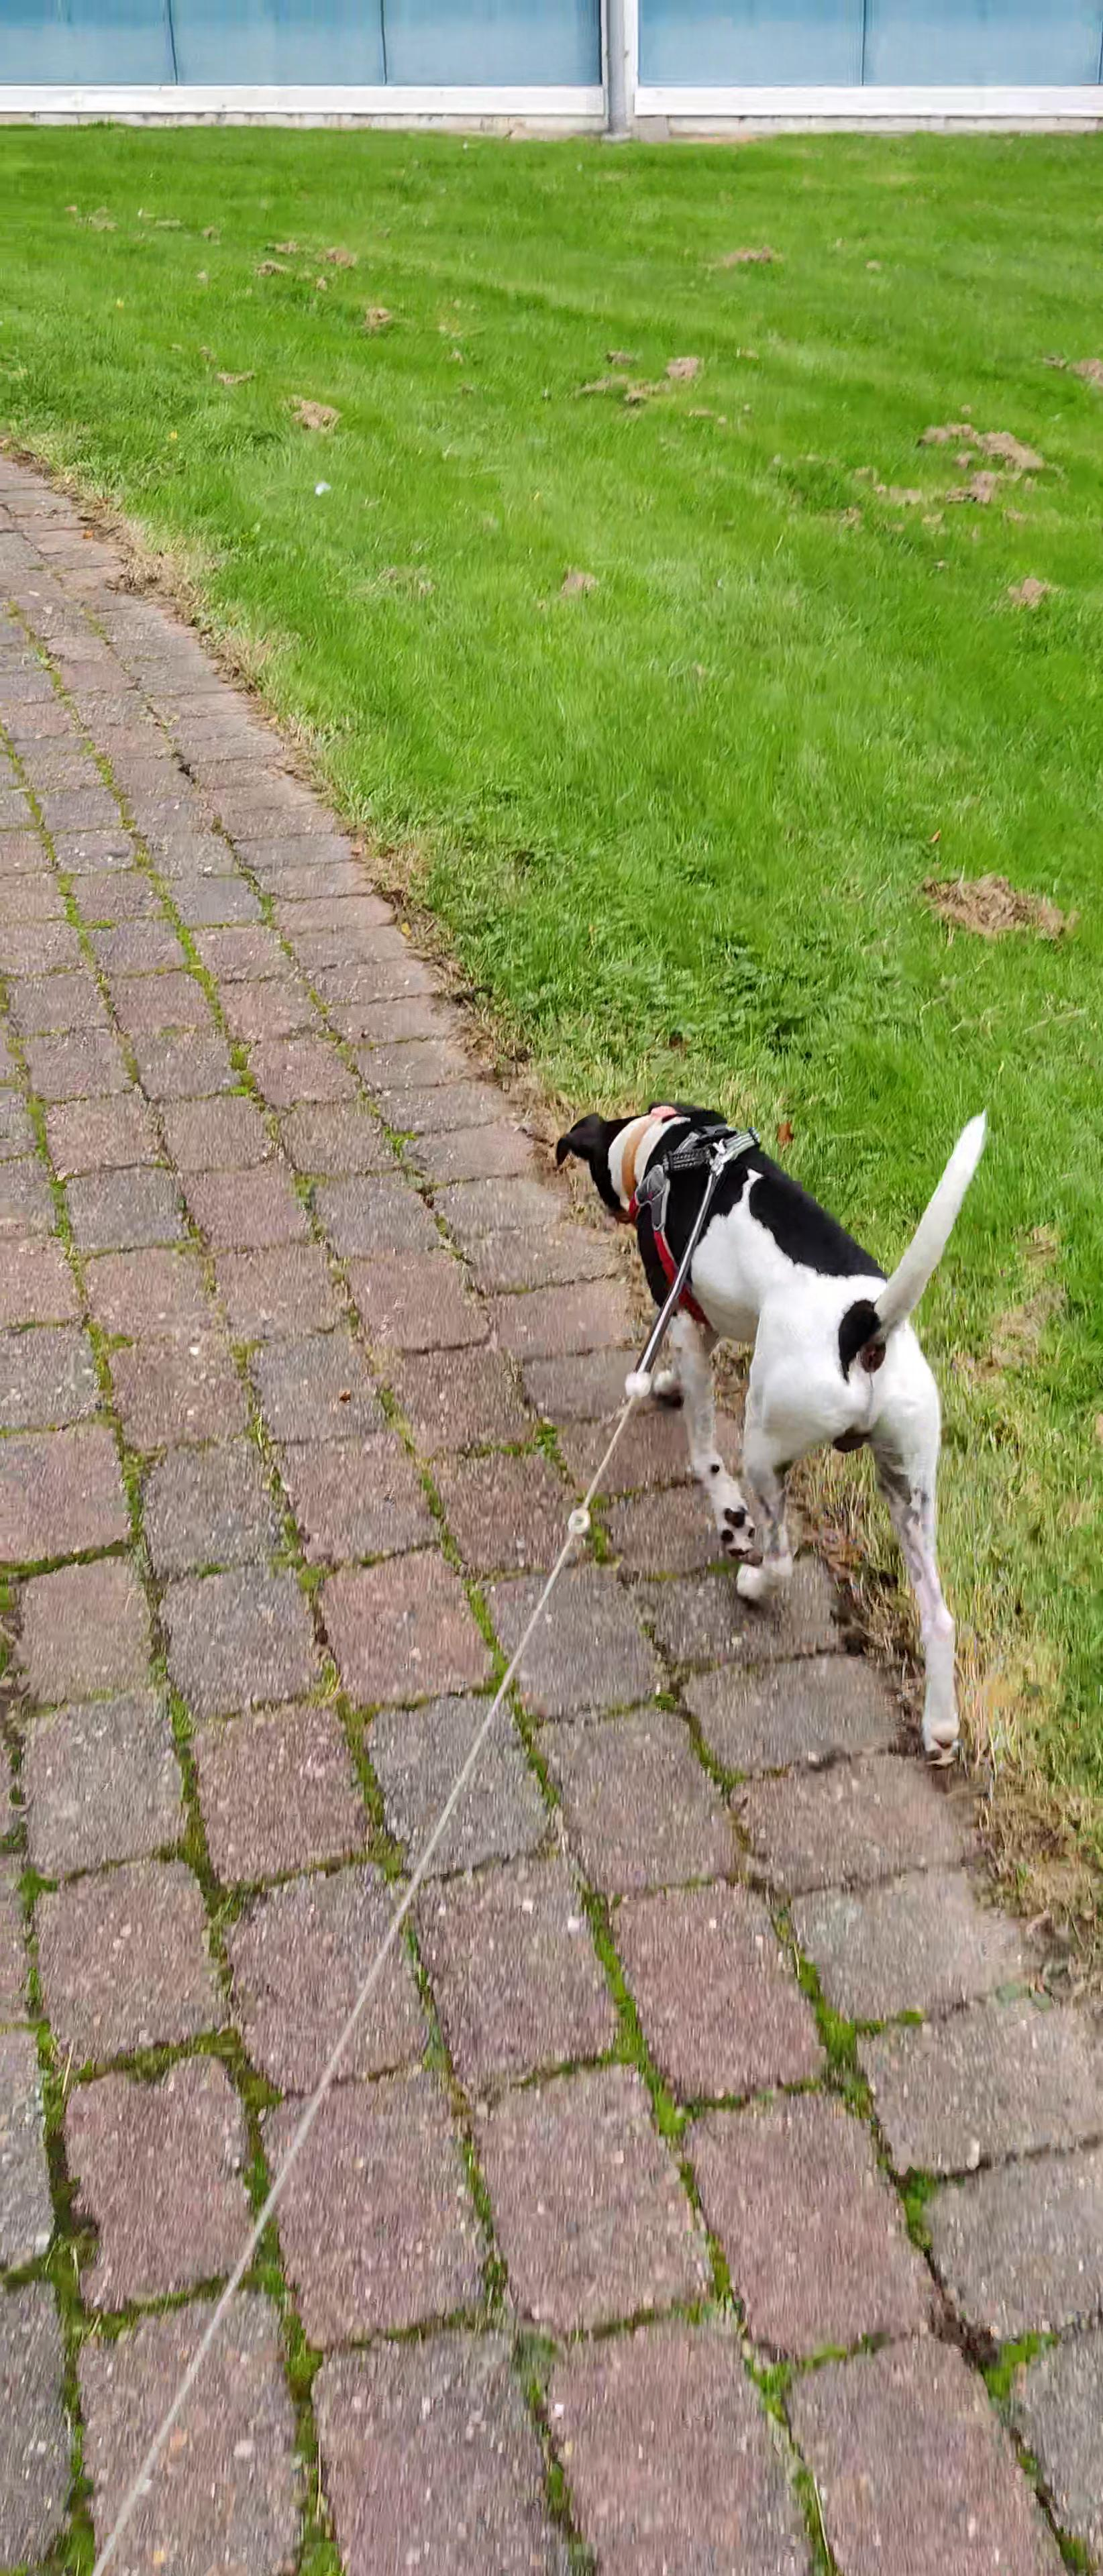Dog: (547, 1094, 996, 1769)
